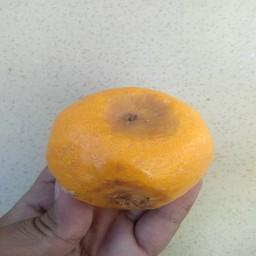Bad_orange: (45, 83, 213, 212)
